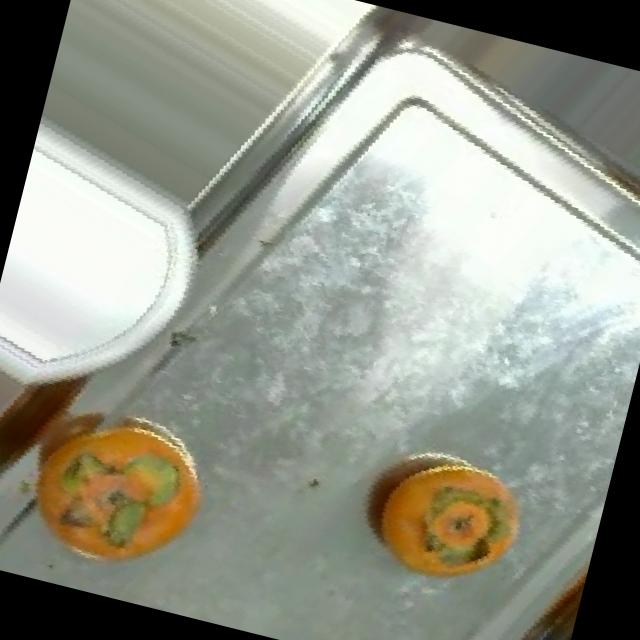Fruit: (318, 415, 557, 613)
